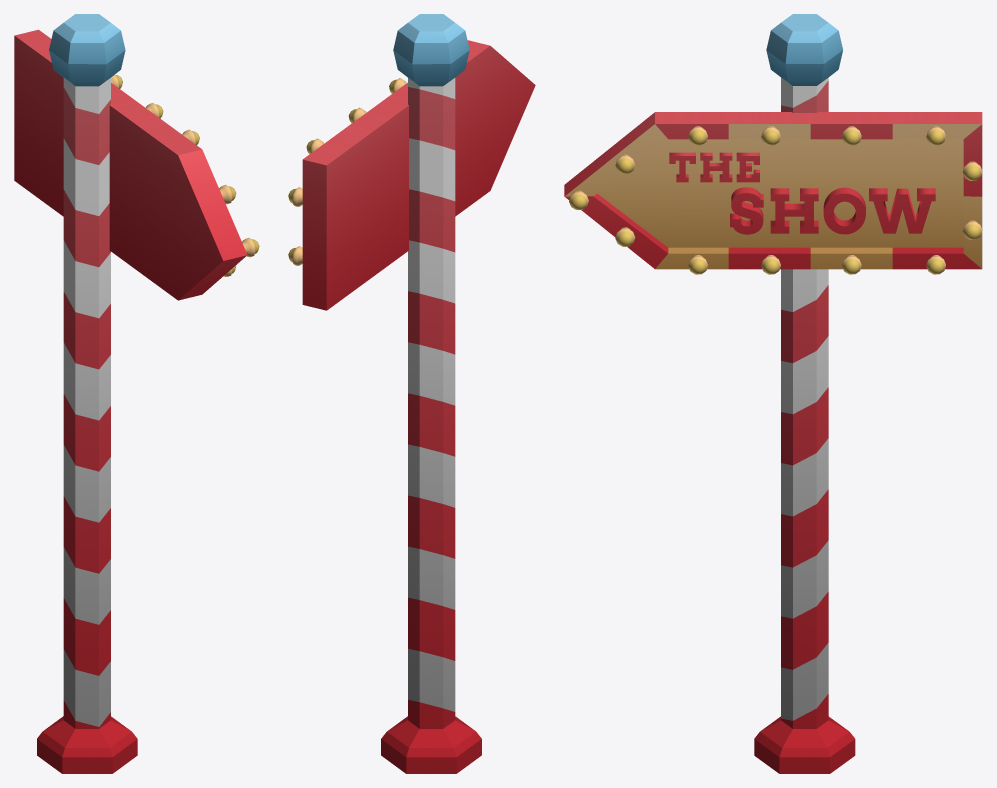
File: the_show_left_pole.fbx
The picture shows the model from 3 angles, left to right: view 1: azimuth 30°, elevation 25°; view 2: azimuth 150°, elevation 25°; view 3: azimuth 270°, elevation 25°; orthographic projection.
Visible parts, largest first — view 1: the_show_left_pole; view 2: the_show_left_pole; view 3: the_show_left_pole.
Boxes of the visible parts, bbox=[...] form: the_show_left_pole: bbox=[14, 14, 259, 773]; the_show_left_pole: bbox=[288, 14, 535, 773]; the_show_left_pole: bbox=[564, 14, 982, 773].
Bounding box in the file's own units: 36.27 × 264 × 137.
